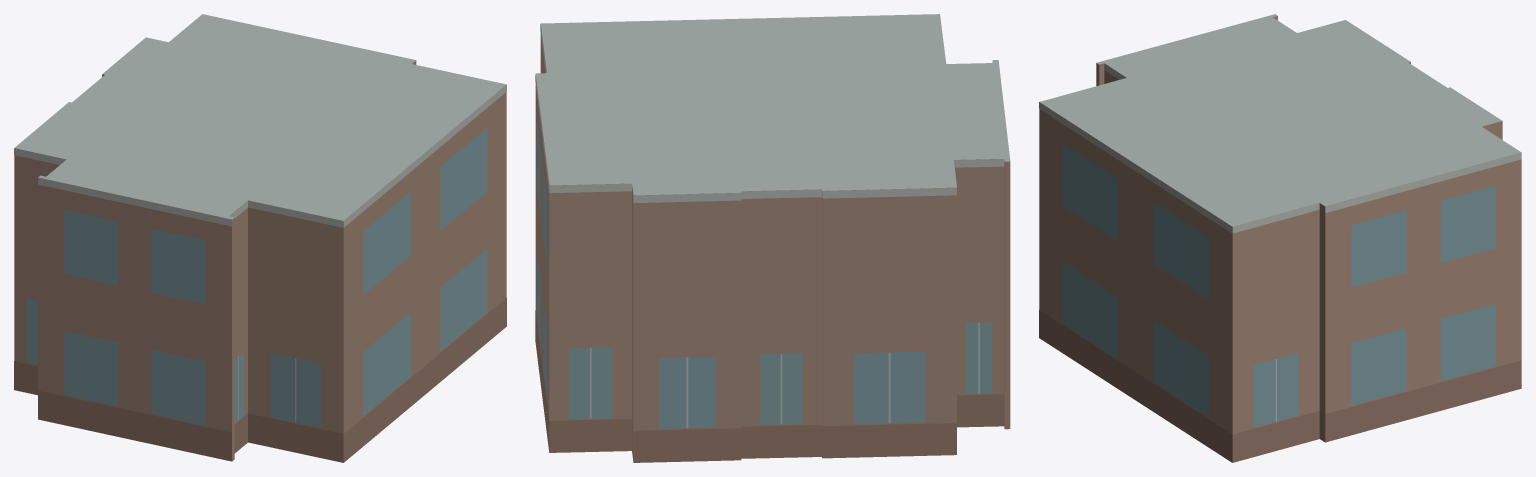
File: survey-upis-32933254.glb
3 renders of one model, left to right at view 1: azimuth 30°, elevation 25°; view 2: azimuth 150°, elevation 25°; view 3: azimuth 270°, elevation 25°, orthographic. The views are drawn at different scales.
Visible parts, largest first — view 1: survey-upis-32933254.tmp; view 2: survey-upis-32933254.tmp; view 3: survey-upis-32933254.tmp.
Boxes of the visible parts, left/top/right/bottom form: survey-upis-32933254.tmp: left=14, top=14, right=506, bottom=462; survey-upis-32933254.tmp: left=535, top=14, right=1010, bottom=462; survey-upis-32933254.tmp: left=1039, top=14, right=1521, bottom=462.
Size of the model in its own units: 16.25 by 8.4 by 15.57.
